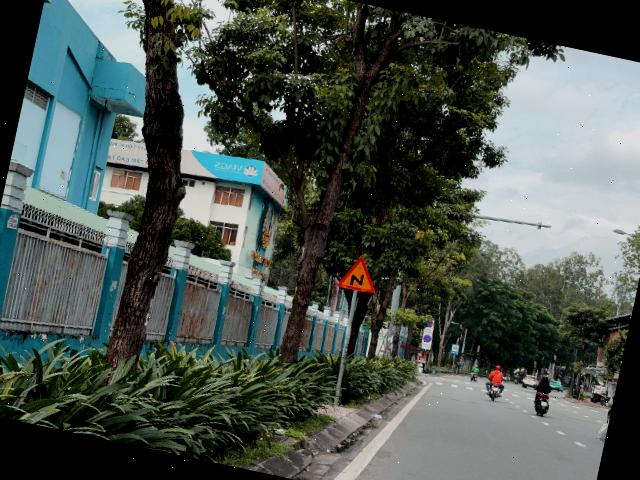nhieu-cho-ngoat-nguy-hiem-lien-tiep: (336, 253, 382, 294)
